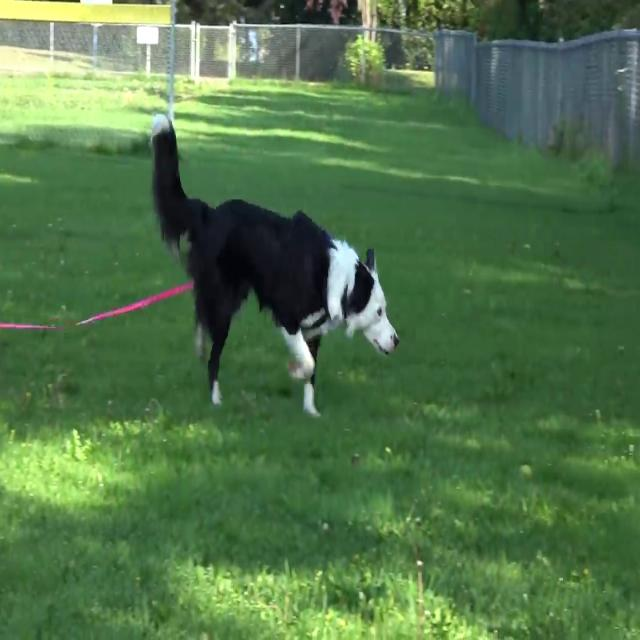Dog: (152, 114, 400, 421)
